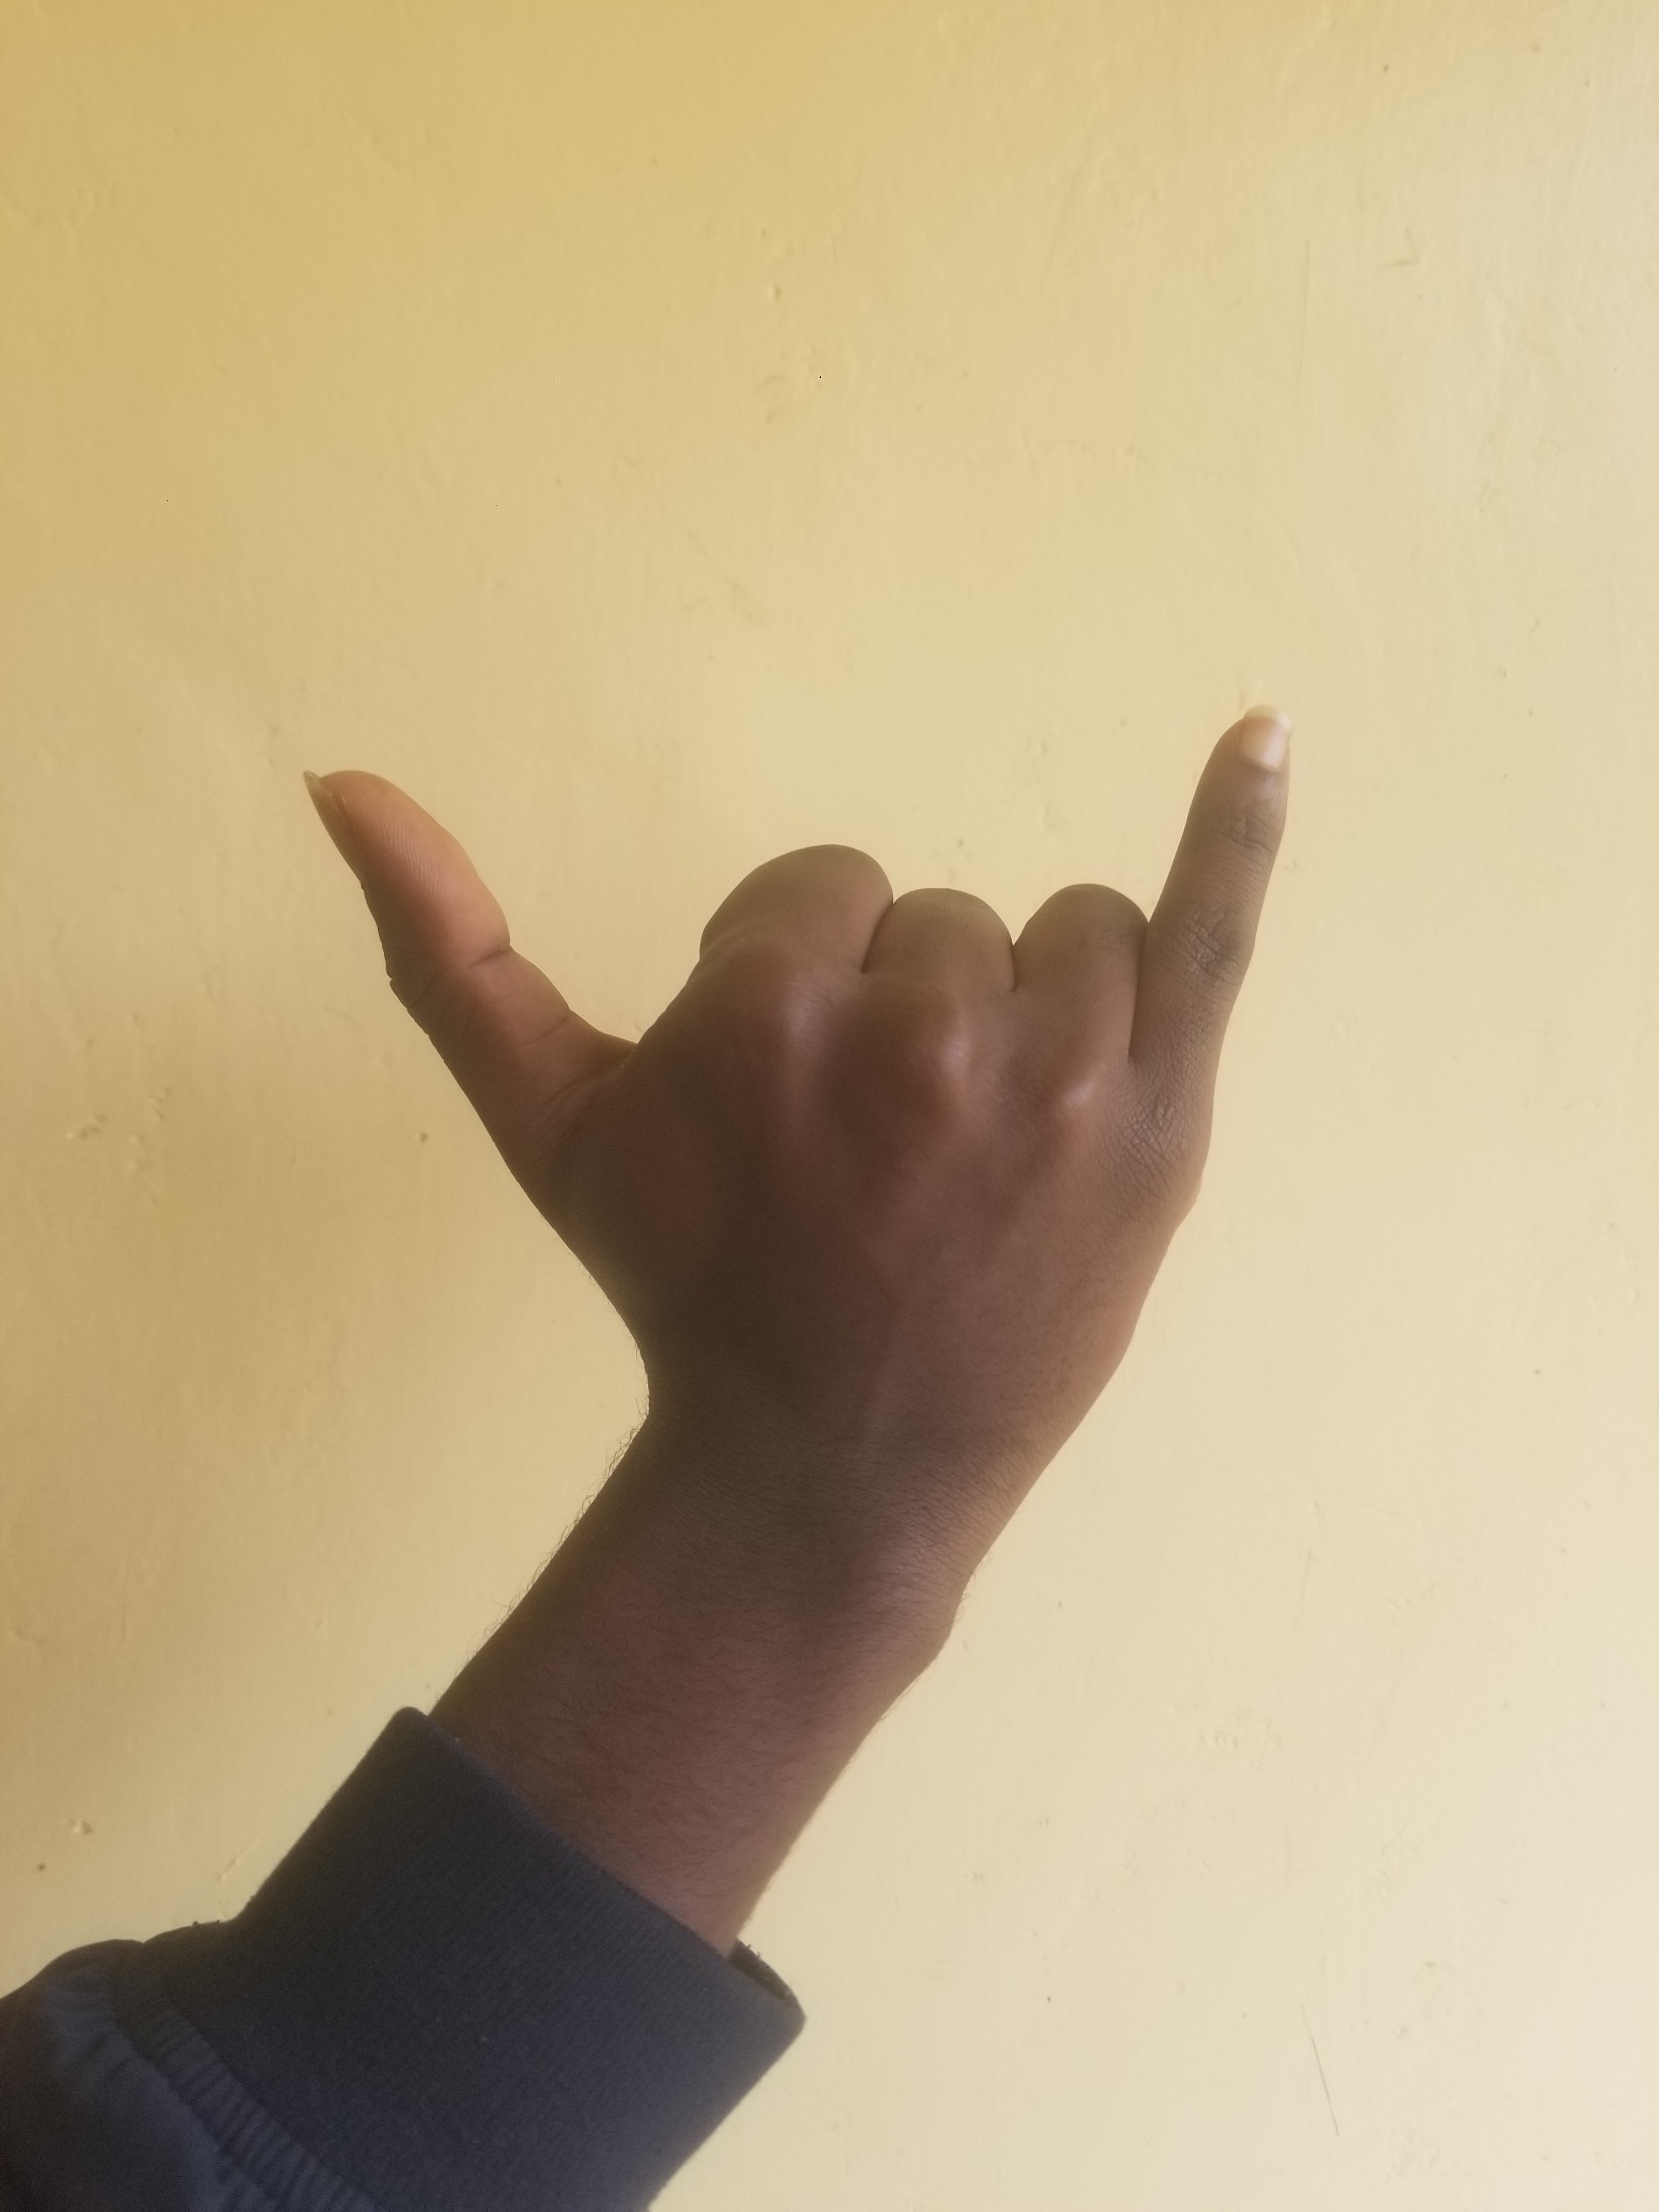call: (218, 592, 1635, 1674)
